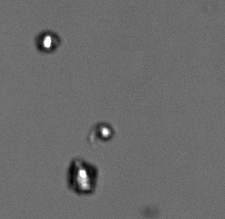Living Cell: (65, 156, 101, 197), (34, 29, 63, 54), (95, 118, 116, 144)
